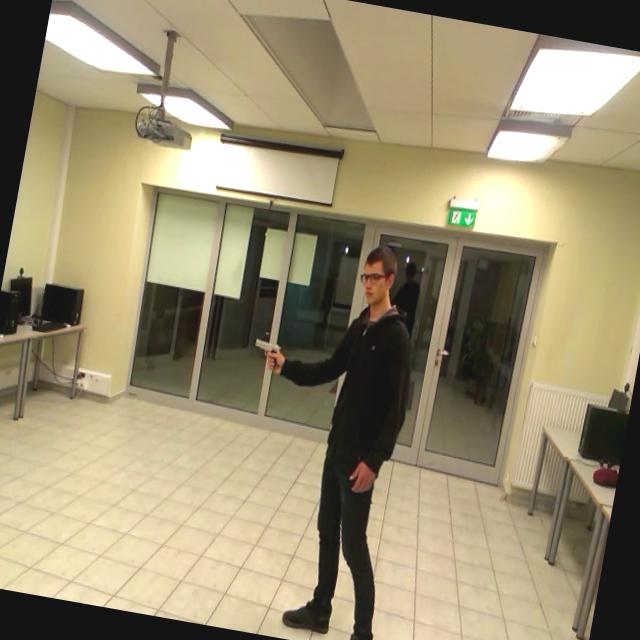handgun: (244, 324, 291, 386)
